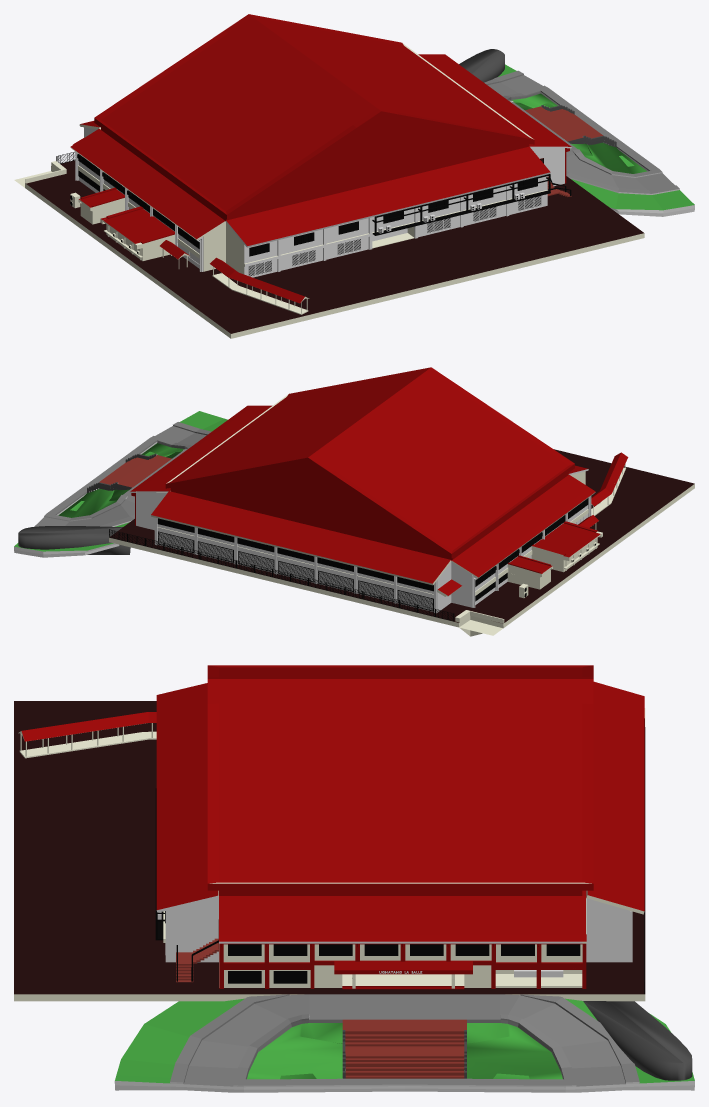
File: Ugnayang La Salle.fbx
The picture shows the model from 3 angles, top to bottom: view 1: azimuth 30°, elevation 25°; view 2: azimuth 150°, elevation 25°; view 3: azimuth 270°, elevation 25°; orthographic projection. The views are drawn at different scales.
Parts seen in each view (by area): view 1: Main Entrance, Road and Stairs, Cube.003, Walkway, Metal Stand with Aircon, Window.002, Cube.002, Cube.001, Dividers Right Side, Dividers with Pipes (Rear), Window.003; view 2: Main Entrance, Road and Stairs, Window.007, Cube.001, Cube.003, Window.008, Walkway, Cube.002, Dividers with Pipes (Rear).001, Window.003, Vent Cover.008, Vent Cover.012 (+5 smaller); view 3: Main Entrance, Road and Stairs, Cube.001, Window, Walkway, Cube, Bintana, Bintana Lower Ground, Bintana Lower Ground.001, Window.001, Hagdan.
Boxes of the visible parts, box(x1,y1,x2,y2) form: Main Entrance: box(14, 14, 644, 338); Road and Stairs: box(484, 64, 694, 216); Cube.003: box(100, 206, 174, 260); Walkway: box(160, 240, 309, 314); Metal Stand with Aircon: box(372, 174, 550, 235); Window.002: box(249, 178, 537, 256); Cube.002: box(78, 187, 124, 224); Cube.001: box(459, 49, 504, 82); Dividers Right Side: box(277, 185, 509, 271); Dividers with Pipes (Rear): box(75, 151, 203, 271); Window.003: box(77, 154, 149, 212); Main Entrance: box(109, 367, 694, 636); Road and Stairs: box(14, 411, 227, 557); Window.007: box(109, 529, 454, 621); Cube.001: box(18, 526, 130, 554); Cube.003: box(510, 521, 602, 582); Window.008: box(157, 518, 433, 591); Walkway: box(578, 452, 628, 529); Cube.002: box(507, 555, 552, 589); Dividers with Pipes (Rear).001: box(154, 517, 436, 613); Window.003: box(475, 532, 542, 586); Vent Cover.008: box(238, 551, 274, 572); Vent Cover.012: box(397, 590, 433, 611); Main Entrance: box(14, 665, 645, 1001); Road and Stairs: box(114, 994, 694, 1092); Cube.001: box(583, 1001, 692, 1080); Window: box(228, 944, 580, 955); Walkway: box(18, 712, 156, 758); Cube: box(314, 960, 491, 974); Bintana: box(219, 943, 586, 963); Bintana Lower Ground: box(219, 962, 314, 988); Bintana Lower Ground.001: box(491, 962, 586, 988); Window.001: box(228, 971, 307, 983); Hagdan: box(176, 938, 218, 982).
Bounding box in the file's own units: 38448 × 10549 × 30716.
